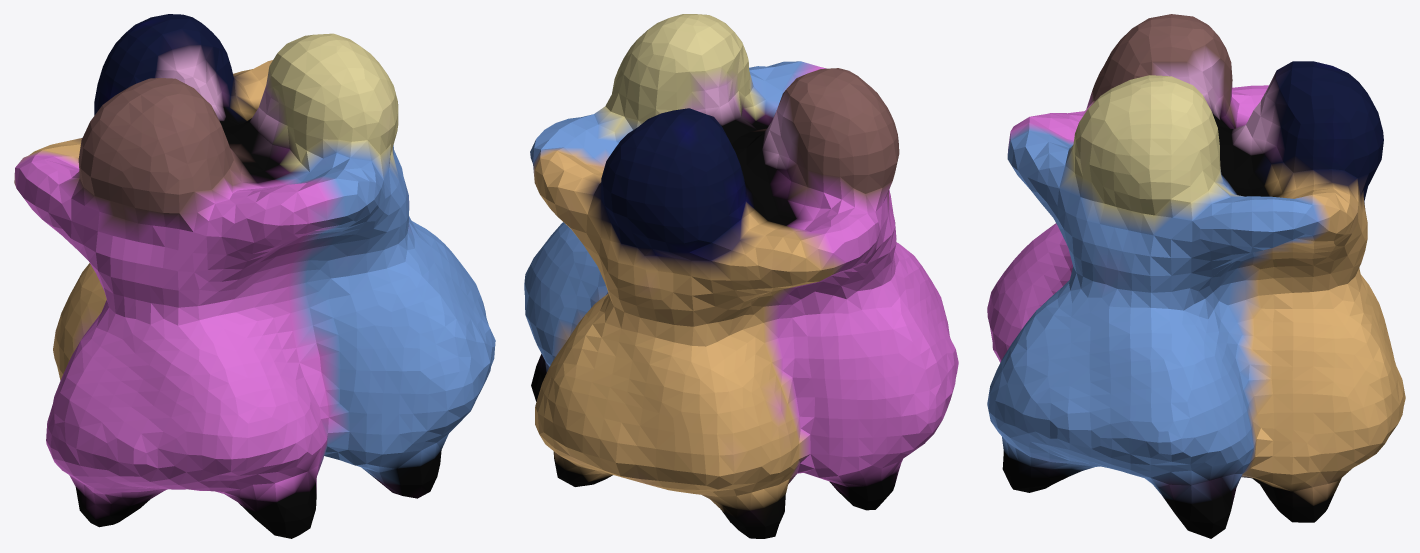
File: Gigglygirls.glb
The picture shows the model from 3 angles, left to right: view 1: azimuth 30°, elevation 25°; view 2: azimuth 150°, elevation 25°; view 3: azimuth 270°, elevation 25°; orthographic projection. The views are drawn at different scales.
Parts seen in each view (by area): view 1: Giggly girls; view 2: Giggly girls; view 3: Giggly girls.
Part boxes in pixels (x1,y1,x2,y2): Giggly girls: (14, 14, 495, 538); Giggly girls: (524, 14, 958, 538); Giggly girls: (987, 14, 1405, 538).
Size of the model in its own units: 1.73 by 1.76 by 1.52.
